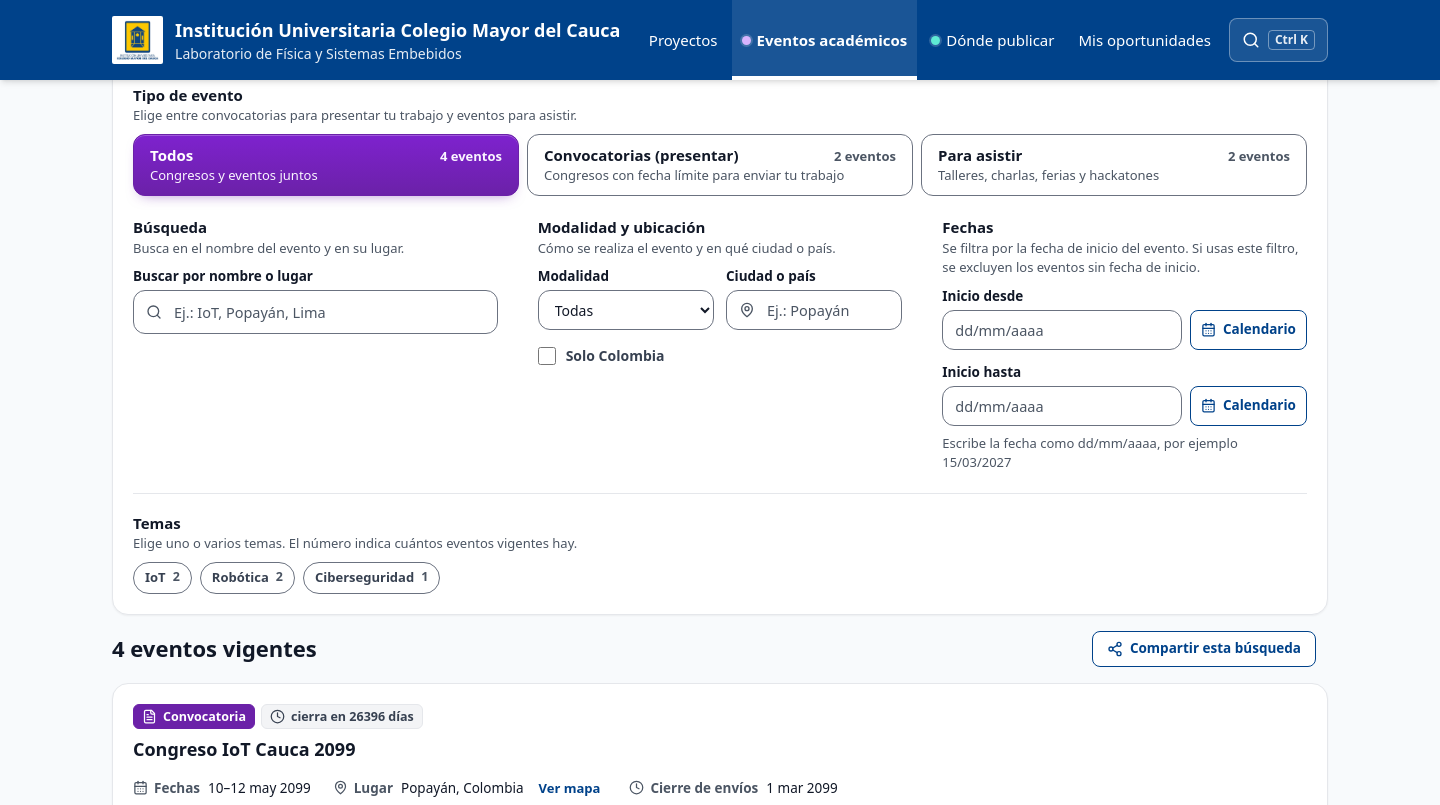
Test case: /eventos: «Calendario» button › a pick replaces an invalid text and its error
(page scrolled)
Type "31022099" into the field labelled "Inicio hasta" at (1062, 406), box [942,386,1182,426]
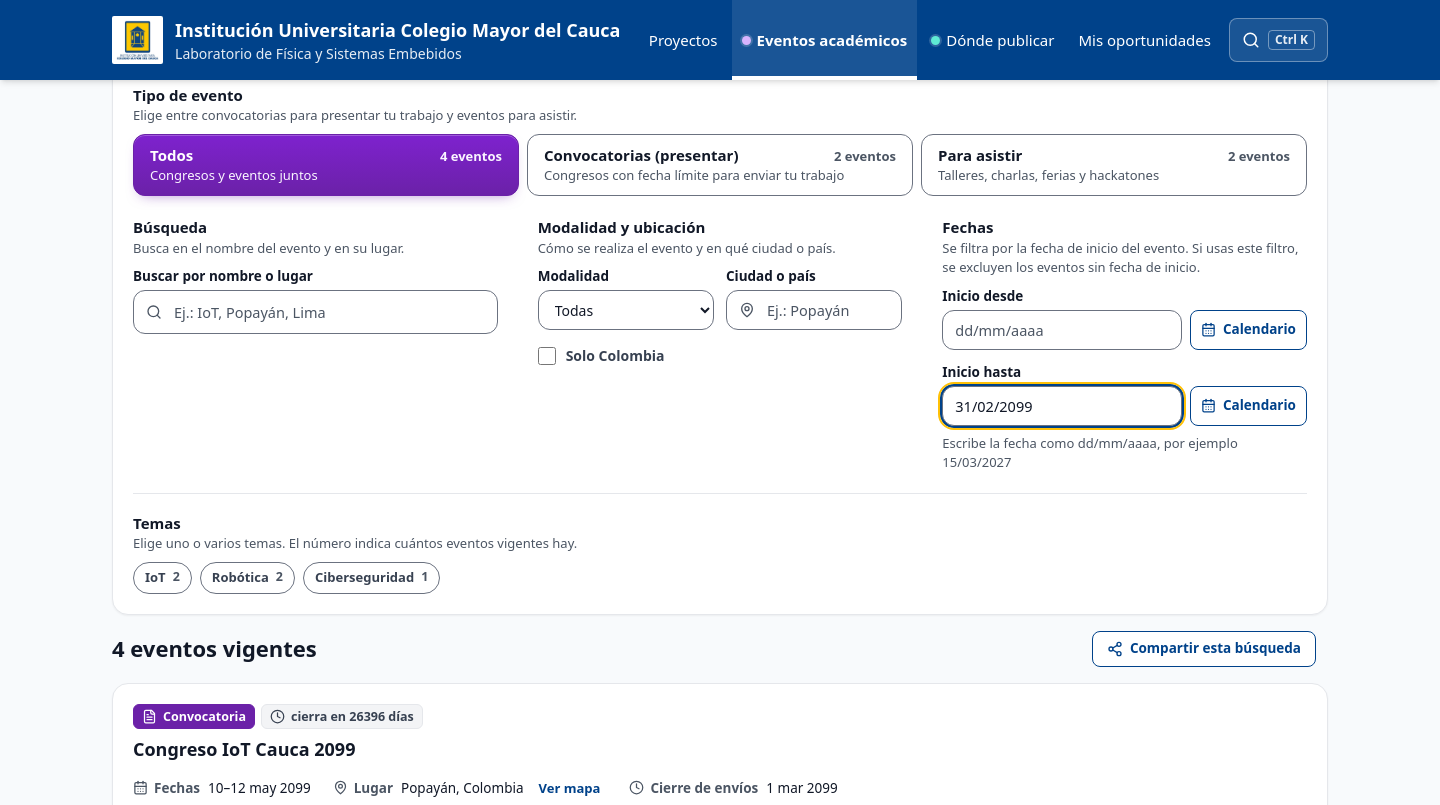
Press Tab
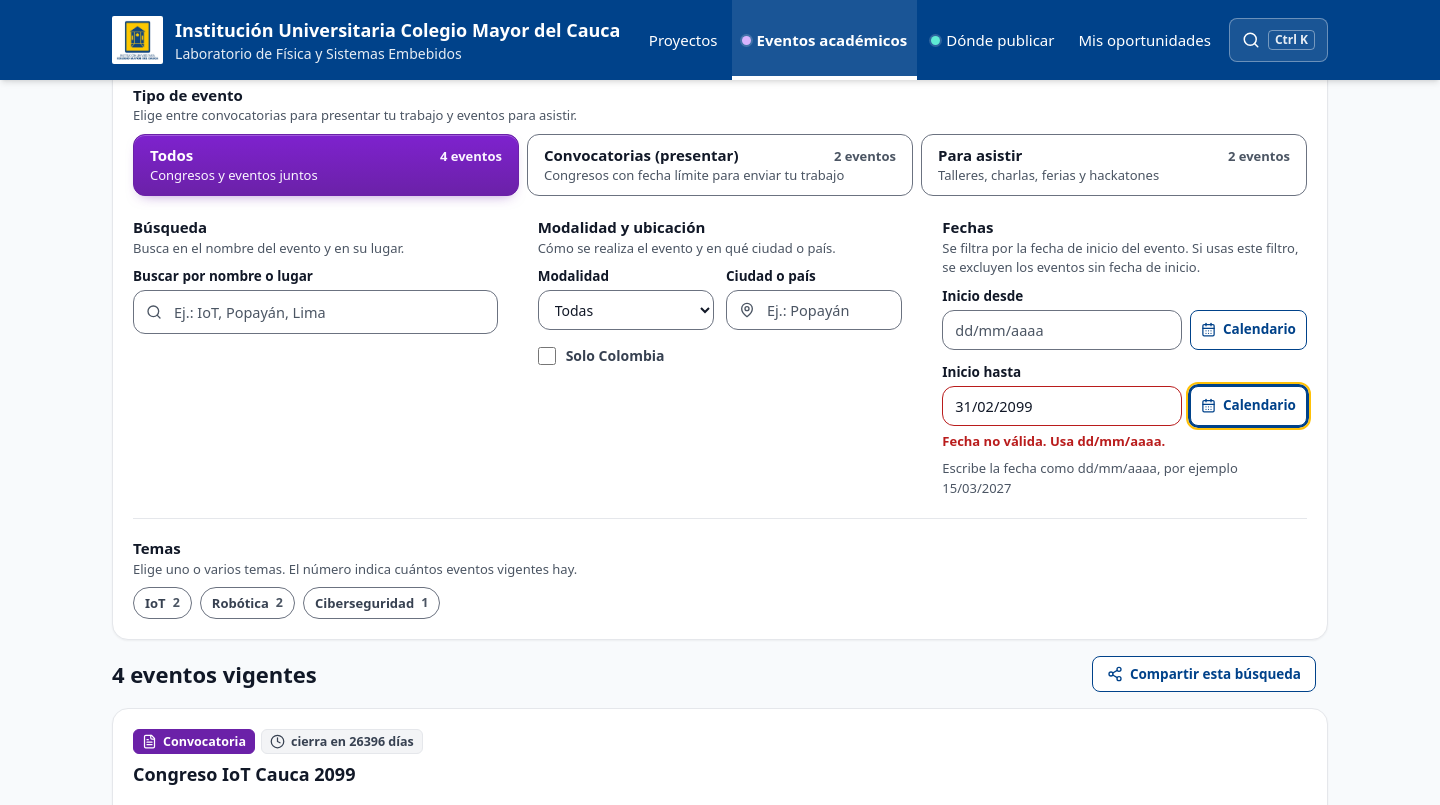
Expected: the text "Fecha no válida. Usa dd/mm/aaaa." is shown, [942,432,1165,450]
Type "2099-06-30" into the date field labelled "Calendario" at (1125, 406), box [942,386,1307,426]
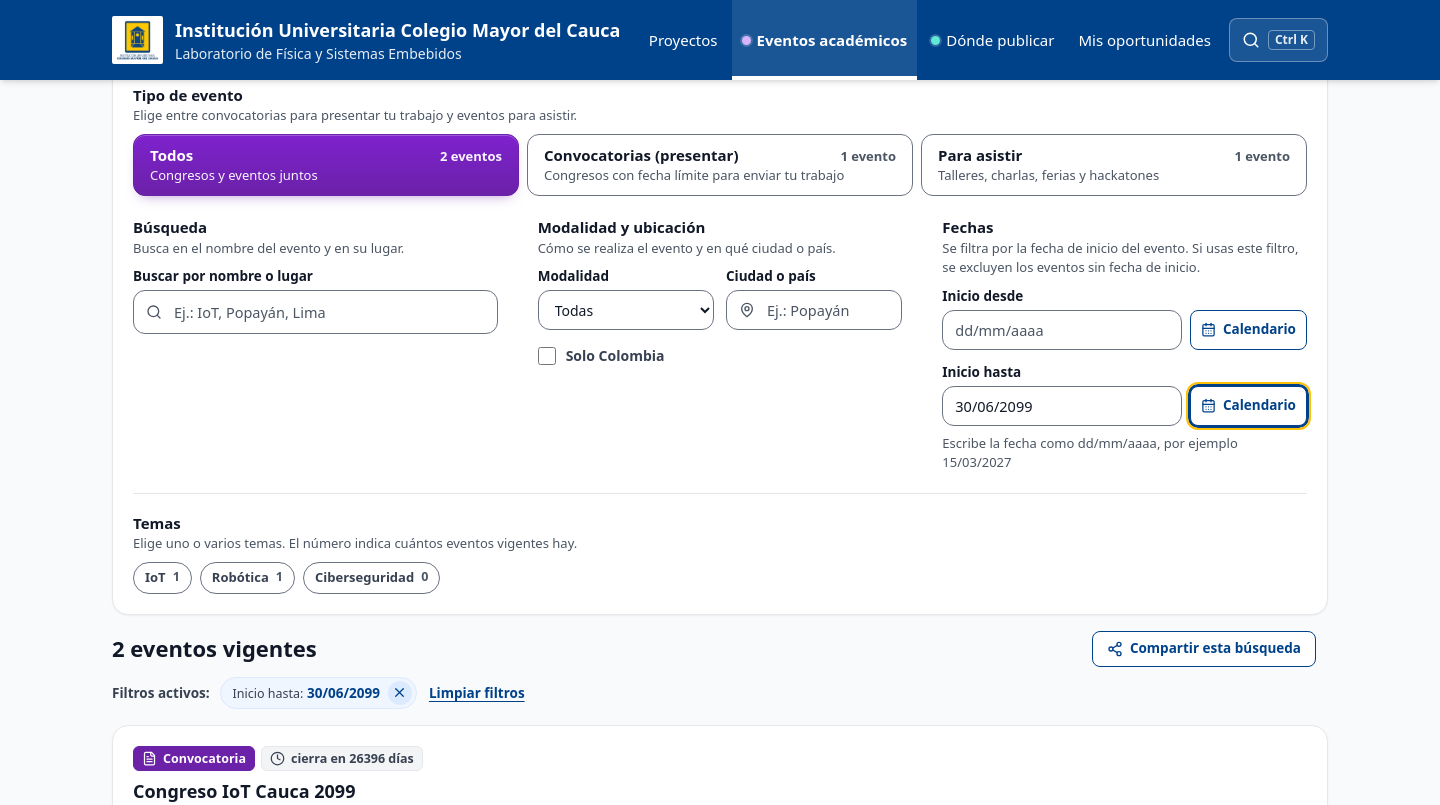
Expected: the field labelled "Inicio hasta" holds "30/06/2099", [942,386,1182,426]
Expected: the text "Fecha no válida. Usa dd/mm/aaaa." is gone
